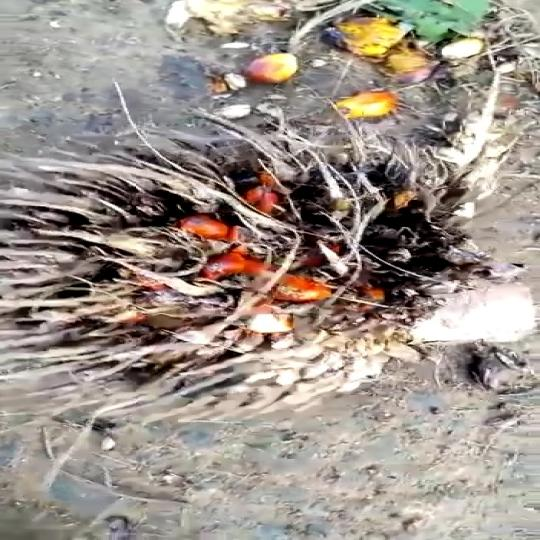terlalu masak: (0, 84, 526, 436)
